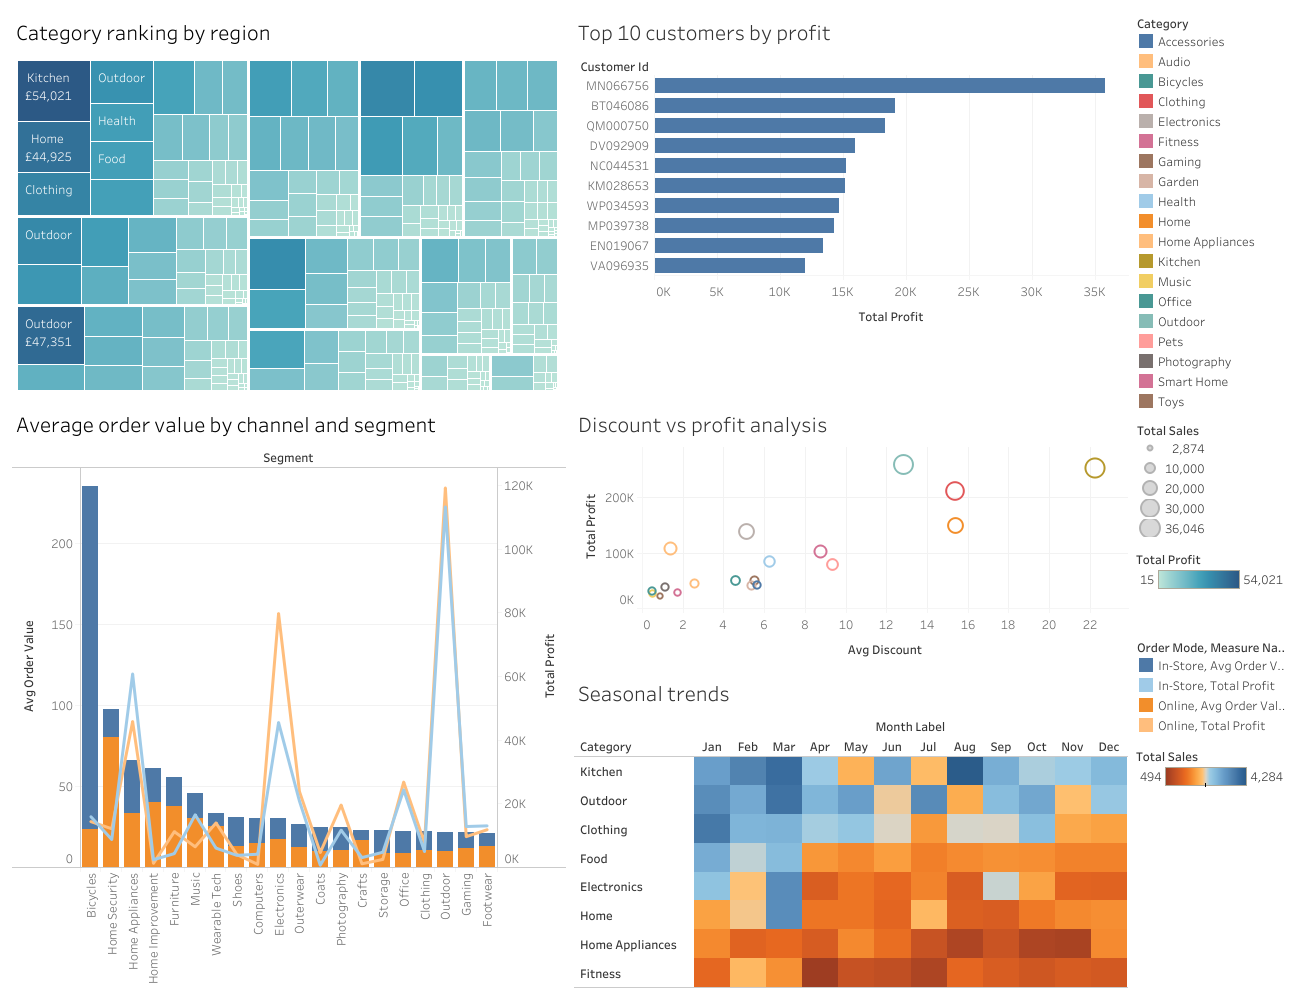

This screenshot's page, from the dashboard's own definition file:
{"tool":"tableau","page":{"name":"Dashboard 2","canvas":[1300,1000],"ordinal":1},"visuals":[{"type":"worksheet","title":"Sheet 5","mark":"Automatic","box":[8,8,562,392]},{"type":"worksheet","title":"Sheet 4","mark":"Automatic","rows":["customer_id"],"cols":["total_profit"],"box":[570,8,562,392]},{"type":"legend","title":"Sheet 2","param":"[federated.0gjspnp02y9c31136xcok1vogafq].[none:category:nk]","box":[1132,8,160,407]},{"type":"worksheet","title":"Sheet 3","mark":"Bar","rows":["avg_order_value","total_profit"],"cols":["segment"],"box":[8,400,562,592]},{"type":"worksheet","title":"Sheet 2","mark":"Automatic","rows":["total_profit"],"cols":["avg_discount"],"box":[570,400,562,269]},{"type":"legend","title":"Sheet 2","param":"[federated.0gjspnp02y9c31136xcok1vogafq].[sum:total_sales:qk]","box":[1132,415,160,127]},{"type":"legend","title":"Sheet 5","param":"[federated.0p3nbdk1jveu20131k7791aoqymr].[sum:total_profit:qk]","box":[1132,542,160,68]},{"type":"legend","title":"Sheet 5","param":"[federated.0p3nbdk1jveu20131k7791aoqymr].[sum:total_profit:qk]","box":[1132,610,160,22]},{"type":"legend","title":"Sheet 3","param":"[federated.1susx550gmh5da0zjp05n0co56zv].[none:order_mode:nk]\n[federated.1susx55","box":[1132,632,160,107]},{"type":"worksheet","title":"Sheet 1","mark":"Automatic","rows":["category"],"cols":["Calculation_1055563013230603"],"box":[570,669,562,323]},{"type":"legend","title":"Sheet 1","param":"[federated.09qgt8b02nltdb1926ijh09p1viw].[sum:total_sales:qk]","box":[1132,739,160,68]}]}

Visuals, with their boxes in screenshot pixels (x1, y1, x2, y2), scaled from the page's 1300x1000 canvas onto the 1299x999 screenshot:
"Sheet 5" worksheet: bbox=(8, 8, 570, 400)
"Sheet 4" worksheet: bbox=(570, 8, 1131, 400)
"Sheet 2" legend: bbox=(1131, 8, 1291, 415)
"Sheet 3" worksheet (Bar marks): bbox=(8, 400, 570, 991)
"Sheet 2" worksheet: bbox=(570, 400, 1131, 668)
"Sheet 2" legend: bbox=(1131, 415, 1291, 541)
"Sheet 5" legend: bbox=(1131, 541, 1291, 609)
"Sheet 5" legend: bbox=(1131, 609, 1291, 631)
"Sheet 3" legend: bbox=(1131, 631, 1291, 738)
"Sheet 1" worksheet: bbox=(570, 668, 1131, 991)
"Sheet 1" legend: bbox=(1131, 738, 1291, 806)
